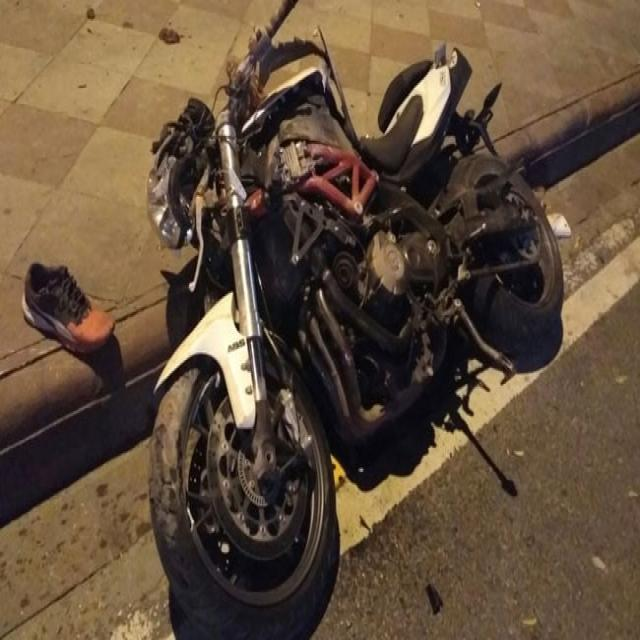accident: (148, 0, 564, 638)
